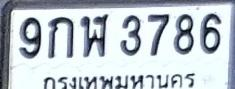3: (120, 14, 141, 56)
6: (200, 12, 221, 54)
7: (147, 13, 169, 56)
8: (173, 13, 194, 54)
9: (19, 16, 41, 58)
A01: (47, 16, 74, 58)
A42: (80, 13, 109, 57)
BKK: (40, 72, 199, 89)
